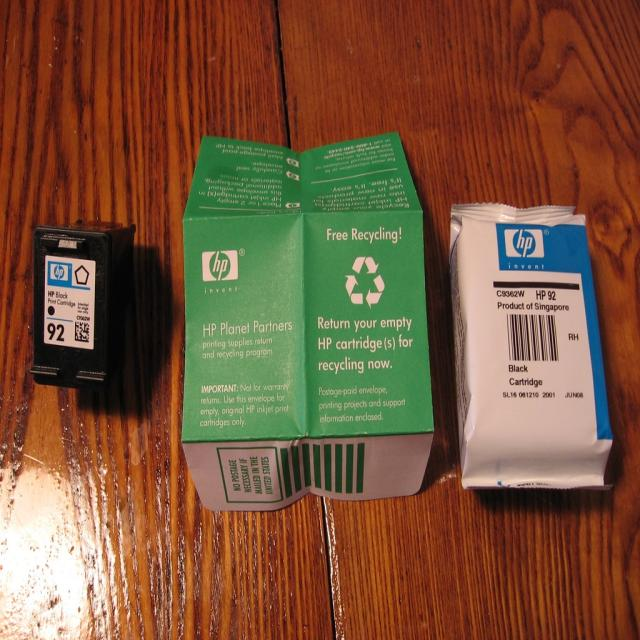HP: (503, 227, 548, 262), (201, 248, 241, 286), (50, 263, 71, 283)
